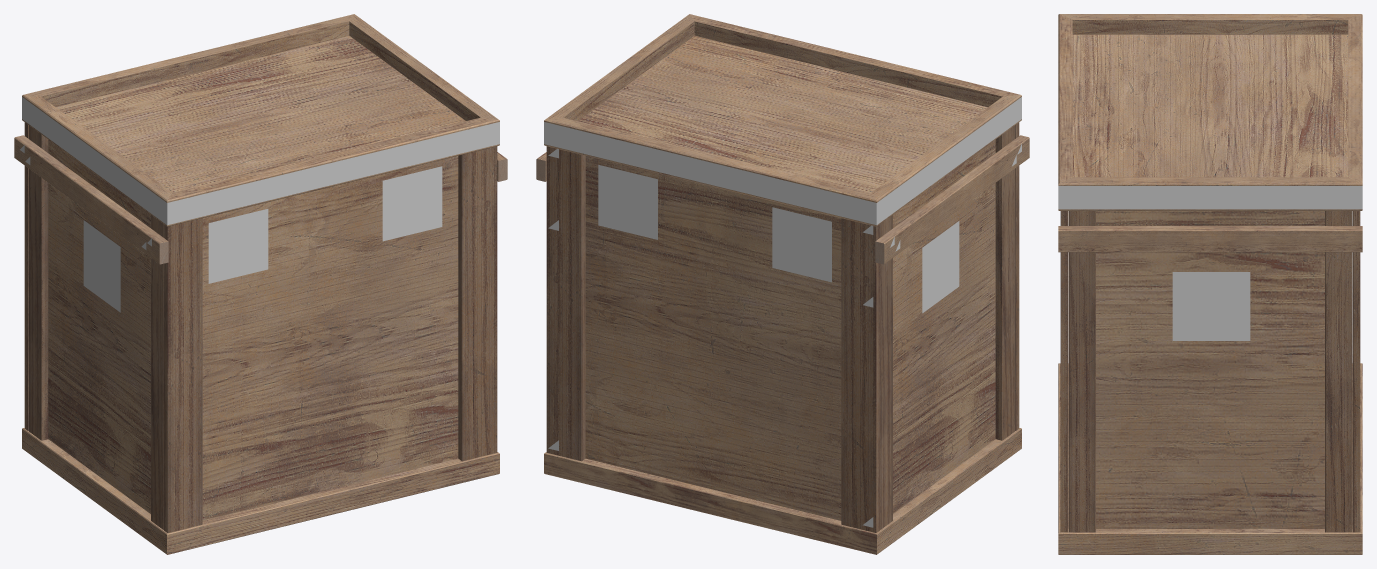
The model's file is Atlas_Wood_Cardboard_Miliitarycratehigh.fbx.
3 views of the same model, side by side, from view 1: azimuth 30°, elevation 25°; view 2: azimuth 150°, elevation 25°; view 3: azimuth 270°, elevation 25° (orthographic). The views are drawn at different scales.
Visible parts, largest first — view 1: Atlas_Wood_Cardboard_Miliitarycratehigh_LOD0; view 2: Atlas_Wood_Cardboard_Miliitarycratehigh_LOD0; view 3: Atlas_Wood_Cardboard_Miliitarycratehigh_LOD0.
Boxes of the visible parts, box(x1,y1,x2,y2) form: Atlas_Wood_Cardboard_Miliitarycratehigh_LOD0: box(14, 14, 507, 554); Atlas_Wood_Cardboard_Miliitarycratehigh_LOD0: box(536, 14, 1029, 554); Atlas_Wood_Cardboard_Miliitarycratehigh_LOD0: box(1058, 14, 1362, 554).
Bounding box in the file's own units: 180 × 175 × 130.
